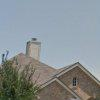Chimney: (20, 27, 44, 66)
